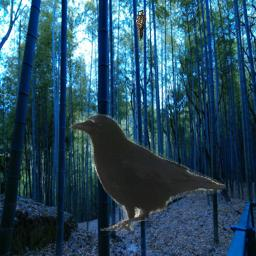Crow: (66, 111, 225, 231)
Woodpecker: (133, 10, 147, 42)
